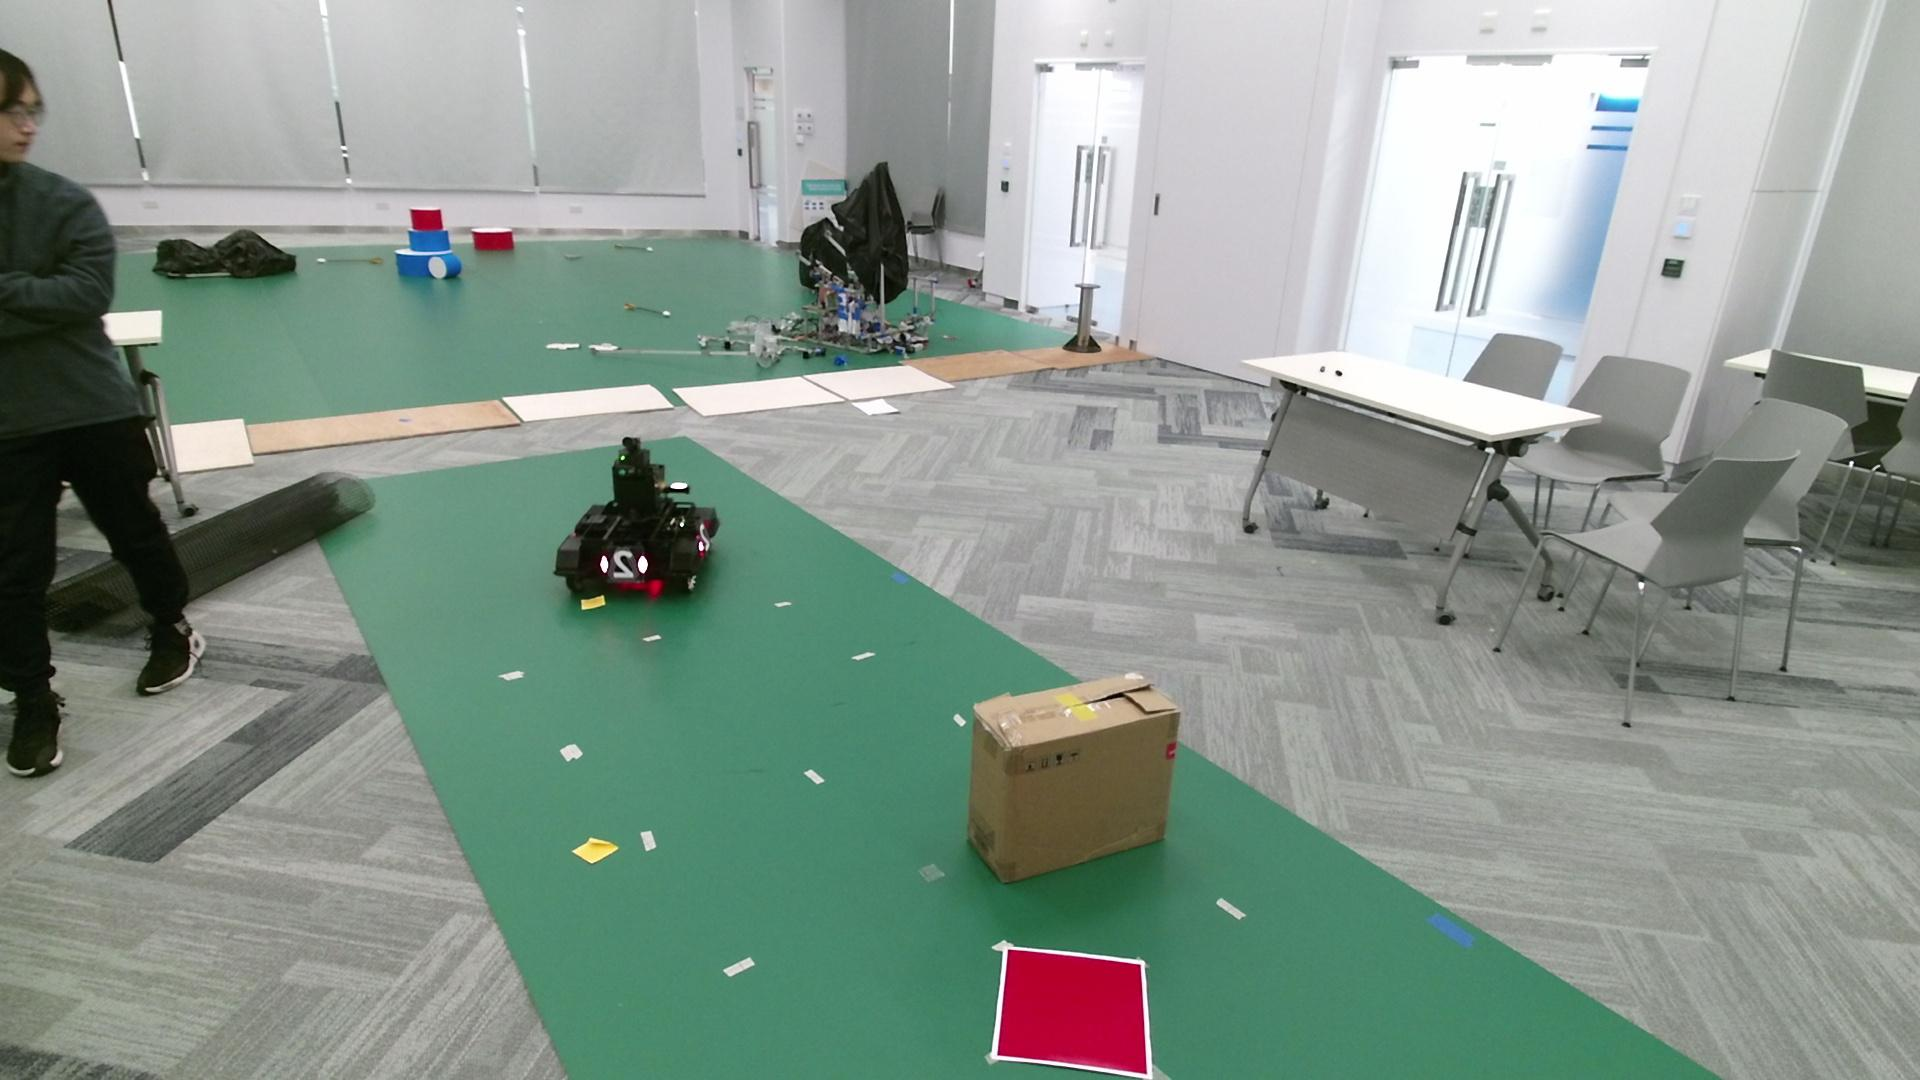robot: (553, 436, 721, 593)
